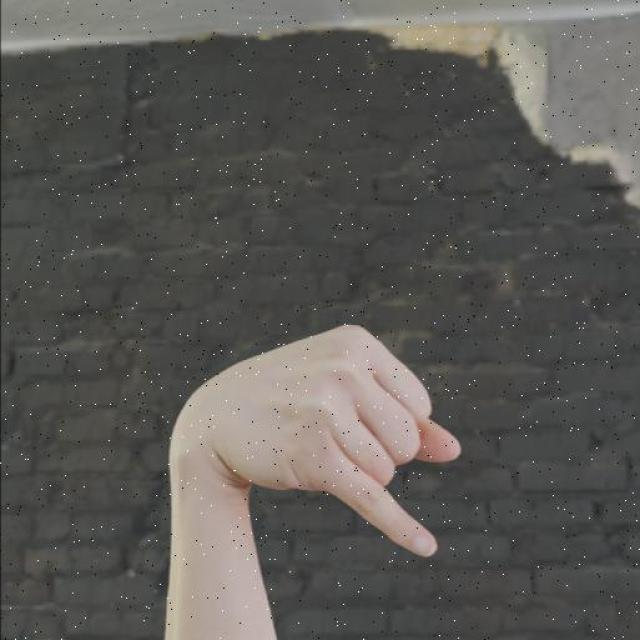J: (172, 317, 467, 562)
